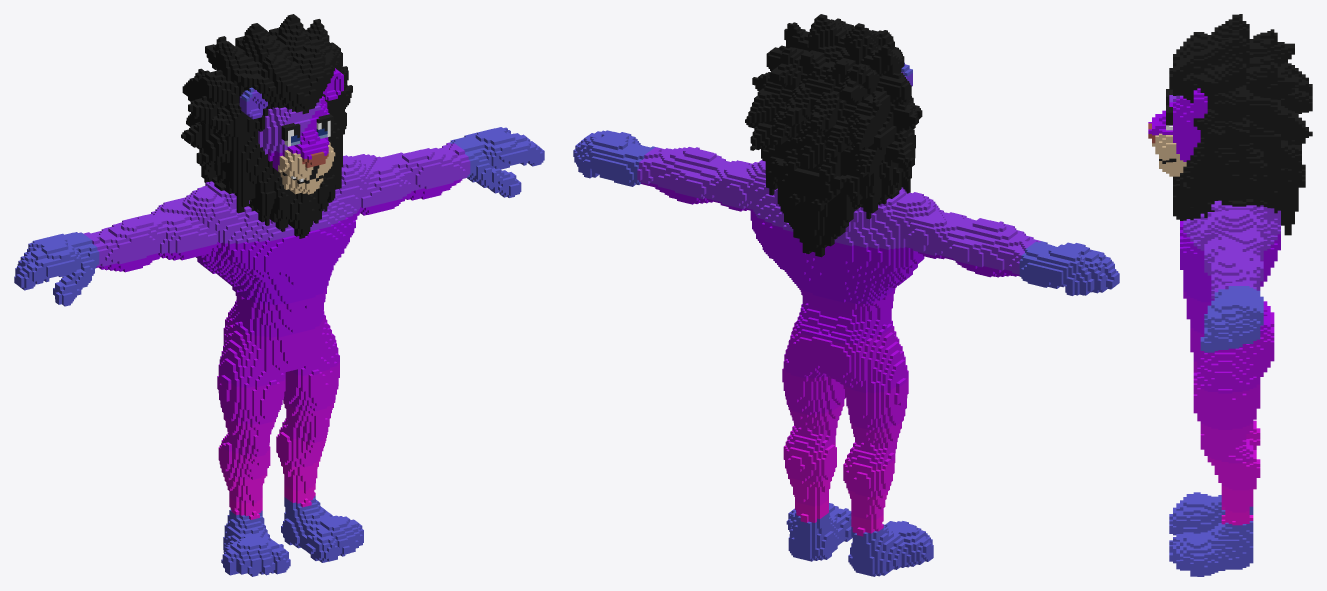
File: 301-MykqaLWf.glb
The picture shows the model from 3 angles, left to right: view 1: azimuth 30°, elevation 25°; view 2: azimuth 150°, elevation 25°; view 3: azimuth 270°, elevation 25°; orthographic projection. The views are drawn at different scales.
Visible parts, largest first — view 1: smirk; view 2: smirk; view 3: smirk.
Boxes of the visible parts, x1=… form: smirk: x1=14, y1=14, x2=544, y2=576; smirk: x1=573, y1=14, x2=1119, y2=576; smirk: x1=1148, y1=14, x2=1312, y2=576.
Bounding box in the file's own units: 17.2 × 16.5 × 4.7.
Materials: 4 (4 with a texture image).
